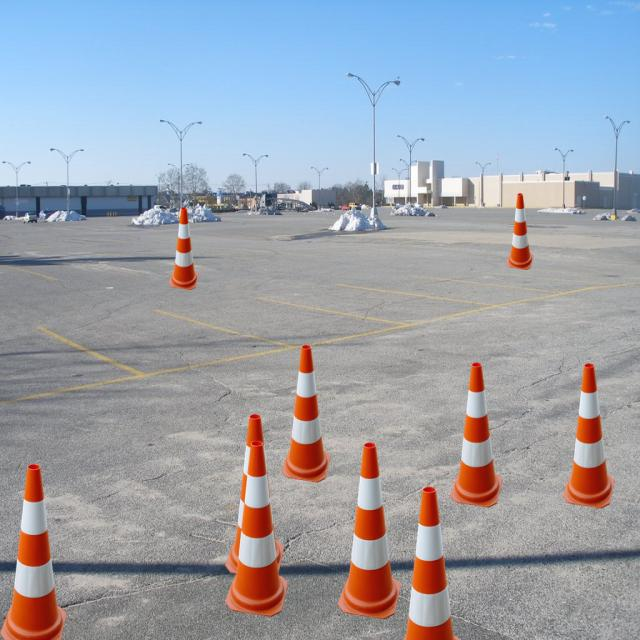large_orange_cone: (0, 464, 67, 640), (338, 443, 402, 619), (225, 441, 288, 617), (394, 486, 464, 640), (225, 414, 284, 579), (450, 362, 502, 508), (563, 364, 615, 508), (281, 345, 331, 483), (169, 208, 199, 290), (506, 193, 534, 270)
